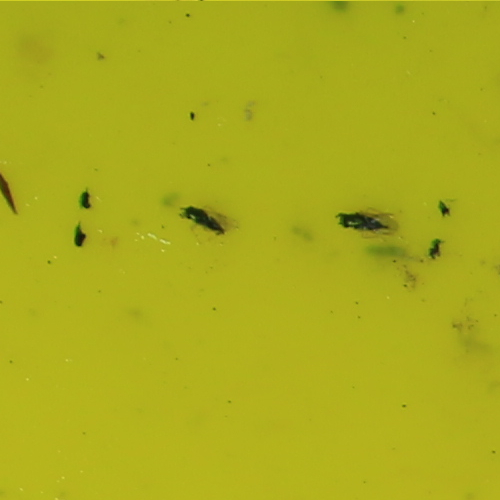Psyllaephagus: (177, 201, 231, 238), (337, 209, 398, 232)
